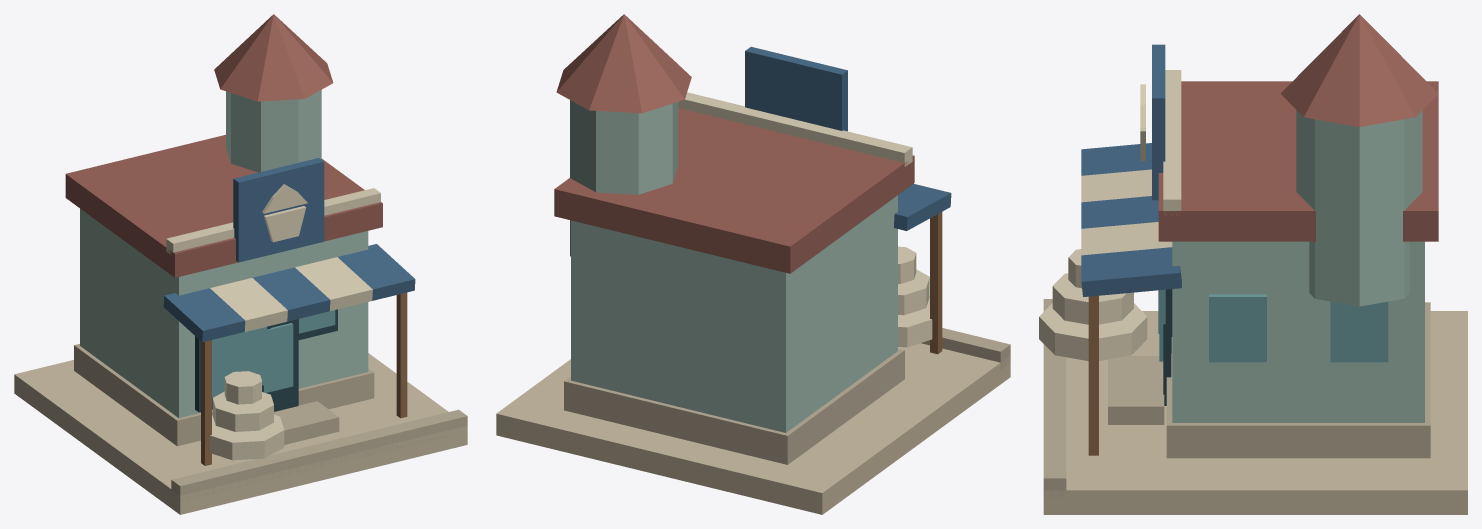
Rendered from patisserie-seabreeze-complete.glb.
3 renders of one model, left to right at view 1: azimuth 30°, elevation 25°; view 2: azimuth 150°, elevation 25°; view 3: azimuth 270°, elevation 25°, orthographic. The views are drawn at different scales.
Parts seen in each view (by area): view 1: patisserie; view 2: patisserie; view 3: patisserie.
Boxes of the visible parts, x1,y1,x2,y2 form: patisserie: (14, 14, 467, 514); patisserie: (496, 14, 1010, 514); patisserie: (1039, 14, 1467, 514).
Size of the model in its own units: 1.88 by 2.23 by 1.9.
